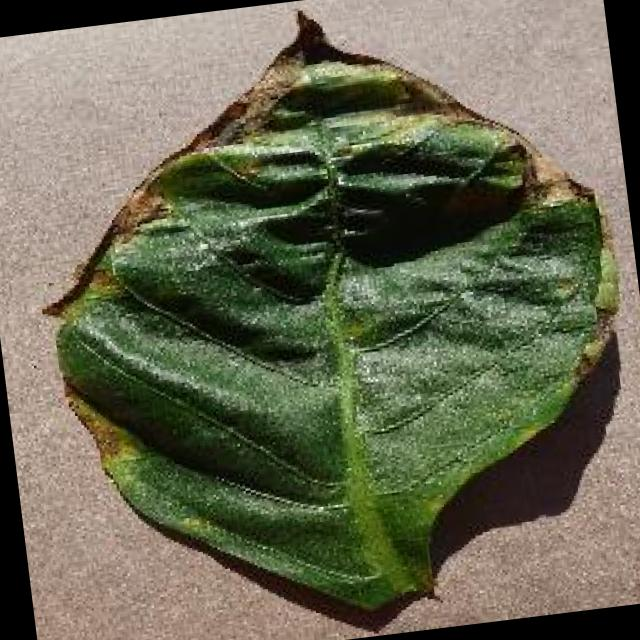Chilli_Bacterial_Spot: (9, 0, 640, 640), (498, 121, 606, 233), (61, 375, 142, 499), (110, 166, 196, 248)
